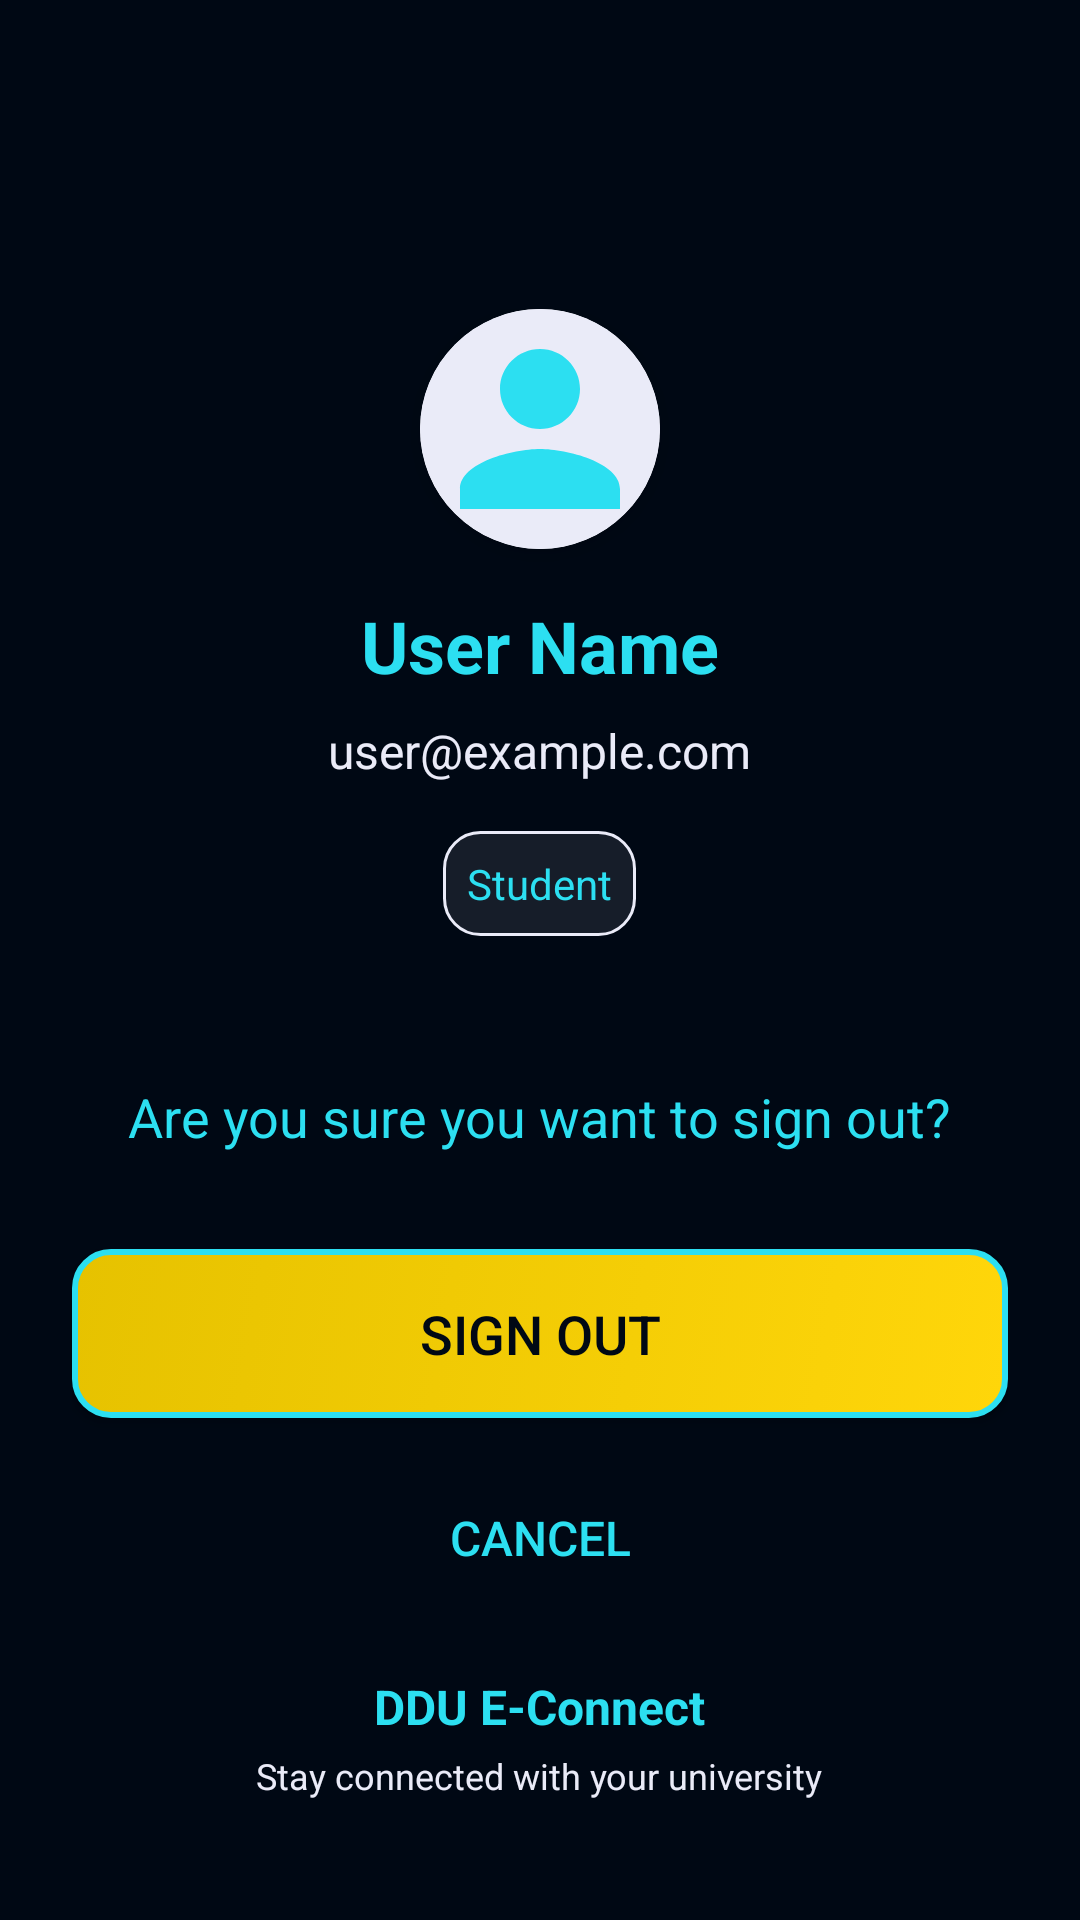

Point at icon controls on the screen. Image size 1080 x 1920, points as (x,y).
person: (540,429)
